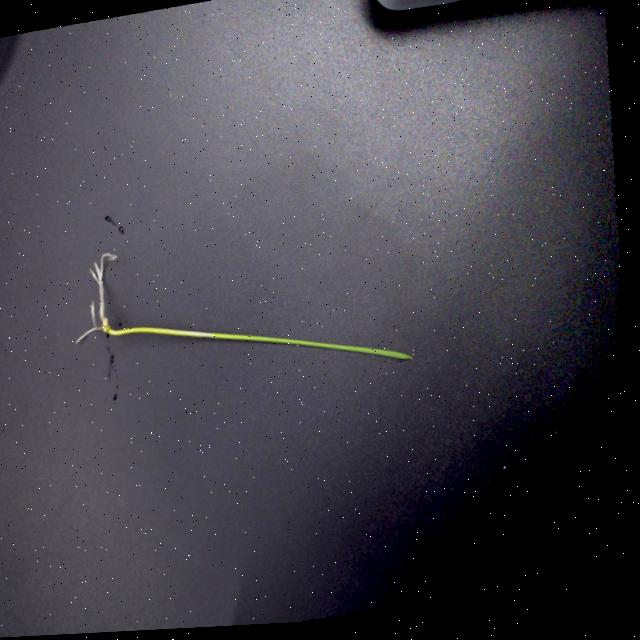leaf: (200, 330, 415, 365)
root: (79, 245, 117, 348)
steb: (103, 323, 206, 345)
